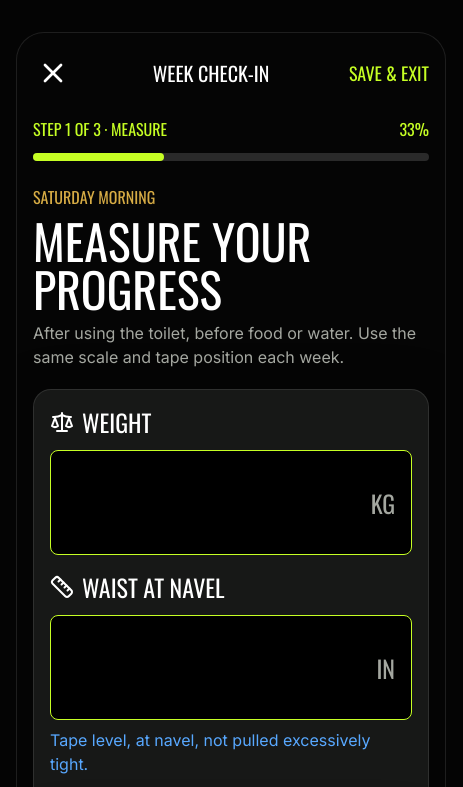
Test: Phase 5 progress flow › validates weekly check-in measurement input and saves draft
The width and height of the screenshot is (463, 787).
Clear the field labelled "Weight kg" at (211, 502), box left=51, top=451, right=371, bottom=554
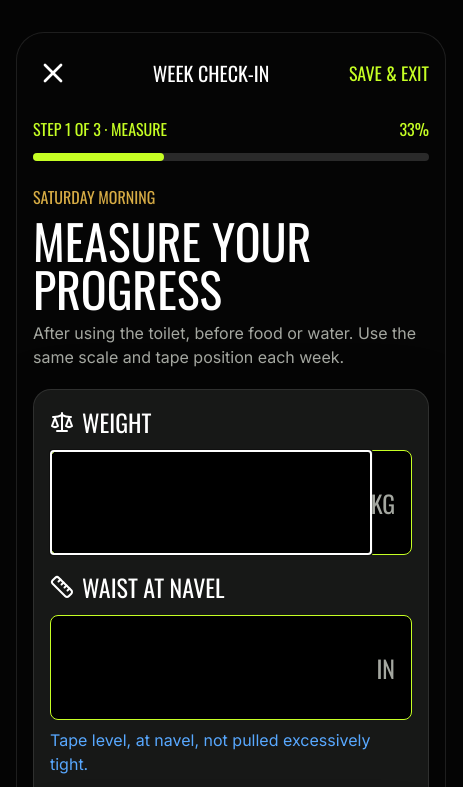
Clear the field labelled "Waist at navel" at (214, 668), box left=51, top=616, right=376, bottom=719
(page scrolled)
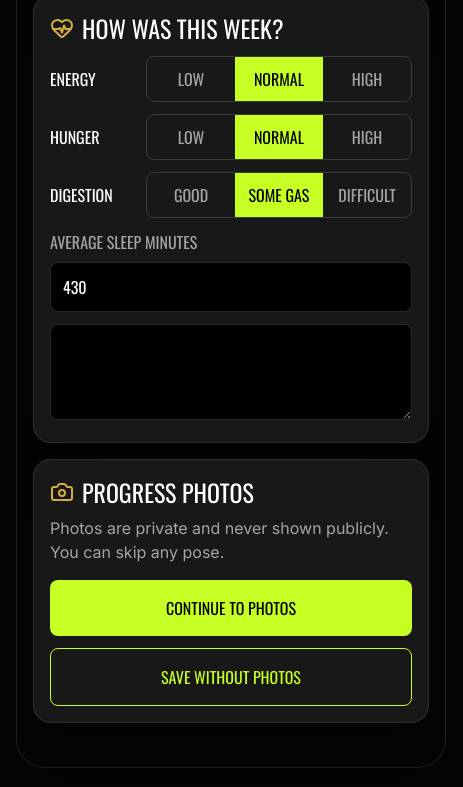
Click the button "Save Without Photos" at (231, 677), box left=50, top=648, right=412, bottom=706
(page scrolled)
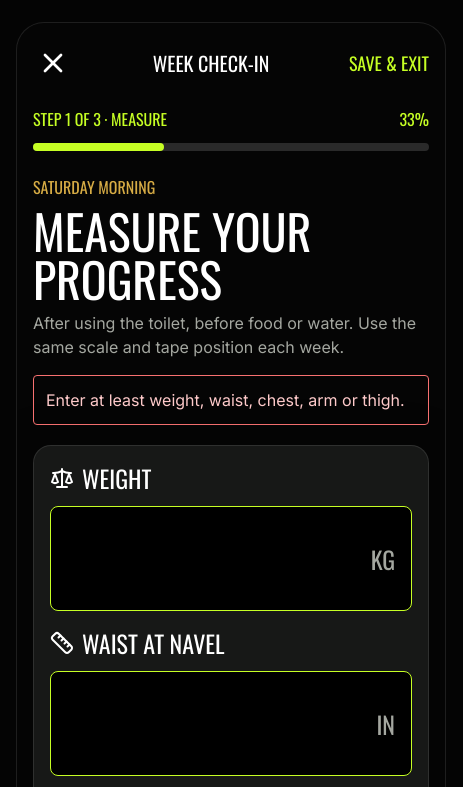
expect the message shows "Enter at least": met, box left=46, top=390, right=405, bottom=410
